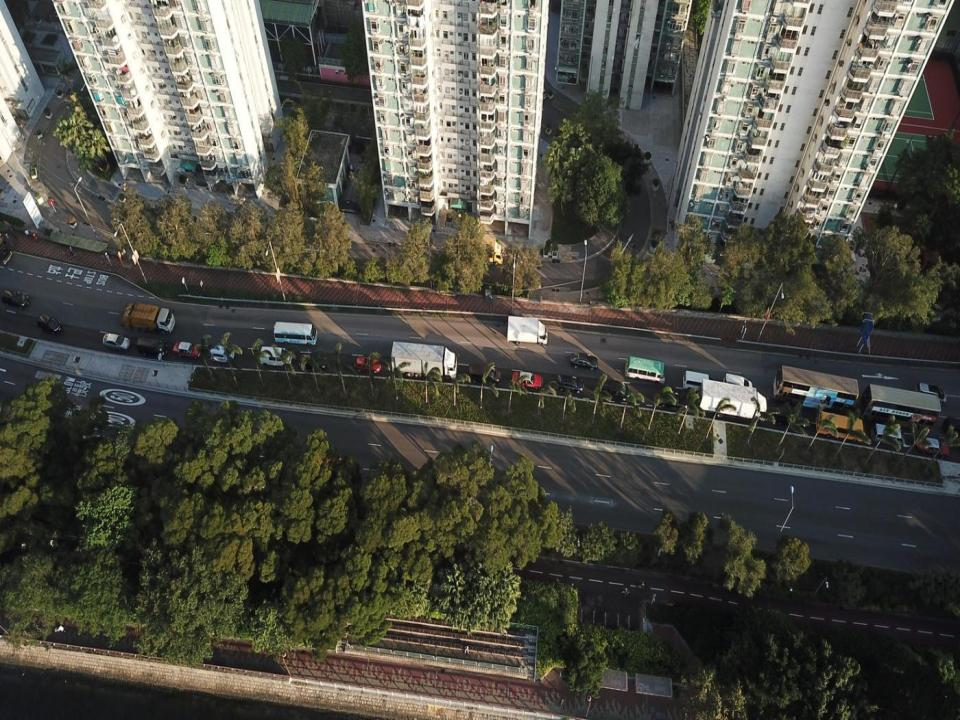bus: (773, 366, 858, 415), (860, 382, 942, 428), (816, 410, 865, 444), (624, 356, 666, 383), (274, 322, 317, 344)
car: (916, 437, 951, 458), (512, 370, 543, 390), (172, 339, 202, 358), (0, 289, 28, 308), (103, 332, 130, 351), (209, 344, 235, 363), (354, 354, 381, 372), (570, 353, 598, 370), (556, 375, 583, 392), (38, 314, 62, 332), (302, 356, 328, 372), (658, 389, 680, 404), (561, 698, 564, 707)
truck: (696, 378, 768, 420), (391, 339, 457, 379), (122, 302, 176, 334), (506, 316, 548, 346), (465, 240, 503, 266)
van: (872, 423, 905, 449), (916, 382, 947, 405), (598, 380, 631, 401), (468, 363, 502, 383), (259, 346, 293, 365), (136, 338, 168, 358), (683, 370, 712, 390), (723, 373, 752, 392)
